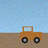vehicle: (20, 27, 42, 43)
